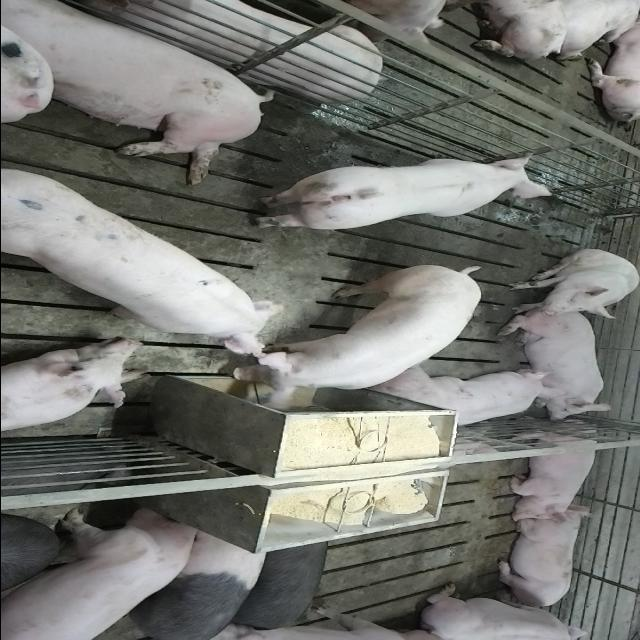Lateral_lying: (4, 5, 278, 186), (62, 0, 417, 103)
Sitting: (503, 249, 638, 318)
Standing: (5, 163, 286, 359), (224, 263, 479, 405), (1, 504, 202, 638), (244, 150, 556, 230), (108, 528, 268, 638), (228, 534, 332, 628)
Sternal_lying: (0, 342, 146, 437), (502, 314, 616, 422), (370, 370, 554, 430), (415, 584, 600, 638), (502, 425, 602, 523), (491, 509, 588, 610)
